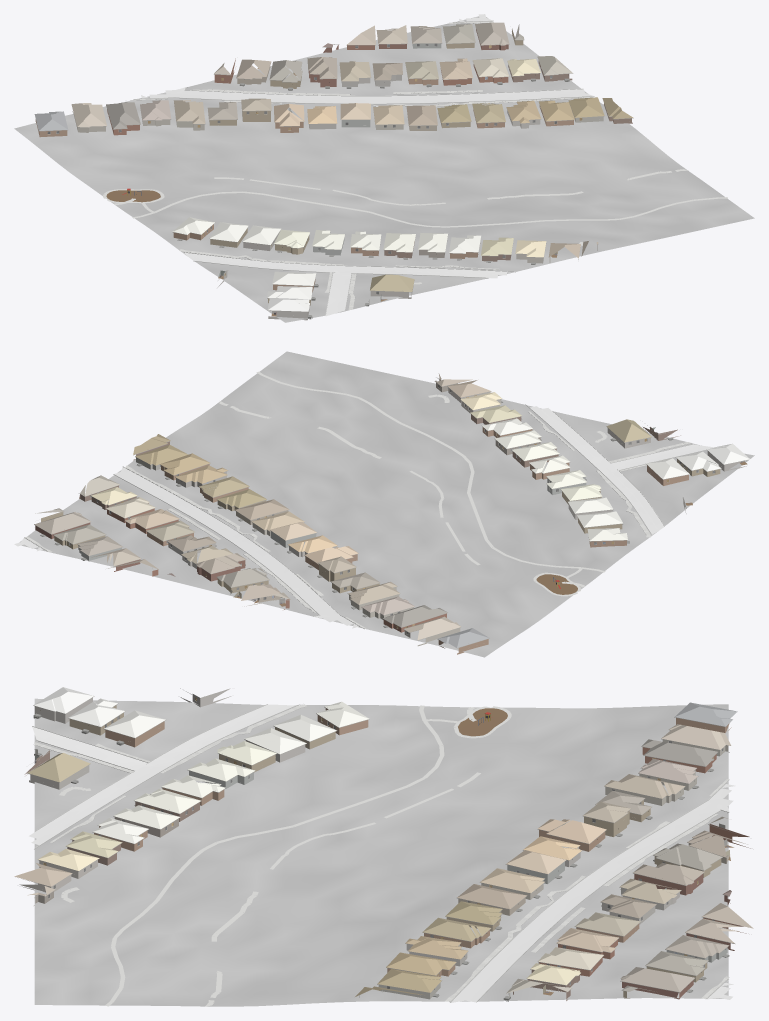
3 renders of one model, top to bottom at view 1: azimuth 30°, elevation 25°; view 2: azimuth 150°, elevation 25°; view 3: azimuth 270°, elevation 25°, orthographic. The views are drawn at different scales.
Parts seen in each view (by area): view 1: ground, roof, wall, walk, concrete, detail, asphalt, curb, wall_stucco, wall_stone; view 2: ground, roof, wall, walk, concrete, detail, asphalt, wall_stucco, curb, wall_stone; view 3: ground, roof, wall, walk, concrete, detail, asphalt, wall_stucco, wall_stone, curb.
Boxes of the visible parts, x1=… form: ground: x1=14, y1=16, x2=754, y2=322; roof: x1=34, y1=22, x2=633, y2=311; wall: x1=35, y1=28, x2=632, y2=305; walk: x1=103, y1=21, x2=727, y2=310; concrete: x1=141, y1=87, x2=592, y2=316; detail: x1=36, y1=30, x2=633, y2=319; asphalt: x1=184, y1=14, x2=507, y2=278; curb: x1=130, y1=20, x2=594, y2=315; wall_stucco: x1=72, y1=43, x2=603, y2=263; wall_stone: x1=217, y1=75, x2=540, y2=320; ground: x1=19, y1=351, x2=754, y2=657; roof: x1=34, y1=373, x2=749, y2=647; wall: x1=35, y1=378, x2=720, y2=654; walk: x1=25, y1=371, x2=690, y2=628; concrete: x1=114, y1=444, x2=714, y2=628; detail: x1=34, y1=377, x2=741, y2=648; asphalt: x1=14, y1=406, x2=664, y2=551; wall_stucco: x1=78, y1=388, x2=586, y2=646; curb: x1=24, y1=404, x2=706, y2=628; wall_stone: x1=168, y1=428, x2=746, y2=568; ground: x1=34, y1=698, x2=728, y2=1006; roof: x1=14, y1=687, x2=753, y2=996; wall: x1=24, y1=705, x2=750, y2=1000; walk: x1=34, y1=704, x2=729, y2=1006; concrete: x1=32, y1=726, x2=735, y2=1002; detail: x1=23, y1=688, x2=739, y2=1001; asphalt: x1=29, y1=704, x2=733, y2=999; wall_stucco: x1=19, y1=739, x2=729, y2=999; wall_stone: x1=29, y1=688, x2=679, y2=966; curb: x1=32, y1=704, x2=729, y2=1002.
Bounding box in the file's own units: 262 × 12.27 × 267.
